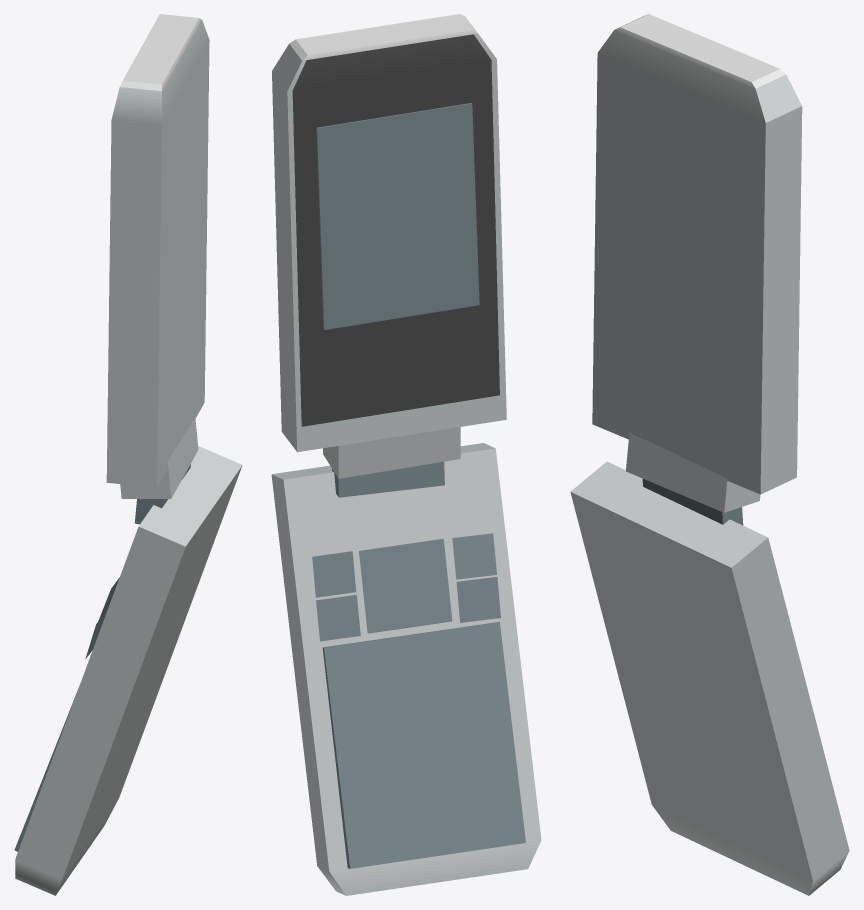
The model's file is Phone.fbx.
3 views of the same model, side by side, from view 1: azimuth 30°, elevation 25°; view 2: azimuth 150°, elevation 25°; view 3: azimuth 270°, elevation 25° (orthographic). The views are drawn at different scales.
Visible parts, largest first — view 1: Phoney_phone; view 2: Phoney_phone; view 3: Phoney_phone.
Boxes of the visible parts, x1,y1,x2,y2 form: Phoney_phone: [14, 14, 242, 895]; Phoney_phone: [271, 14, 541, 895]; Phoney_phone: [570, 14, 849, 895].
Size of the model in its own units: 1.83 by 5.74 by 1.7.
